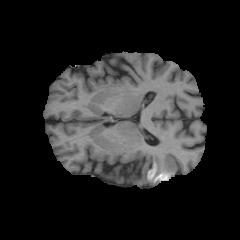glioma: (143, 154, 179, 185)
